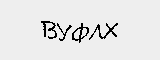В: (40, 17, 56, 41)
Л: (88, 21, 103, 45)
У: (55, 22, 71, 44)
Ф: (70, 22, 90, 45)
Х: (104, 17, 120, 40)
